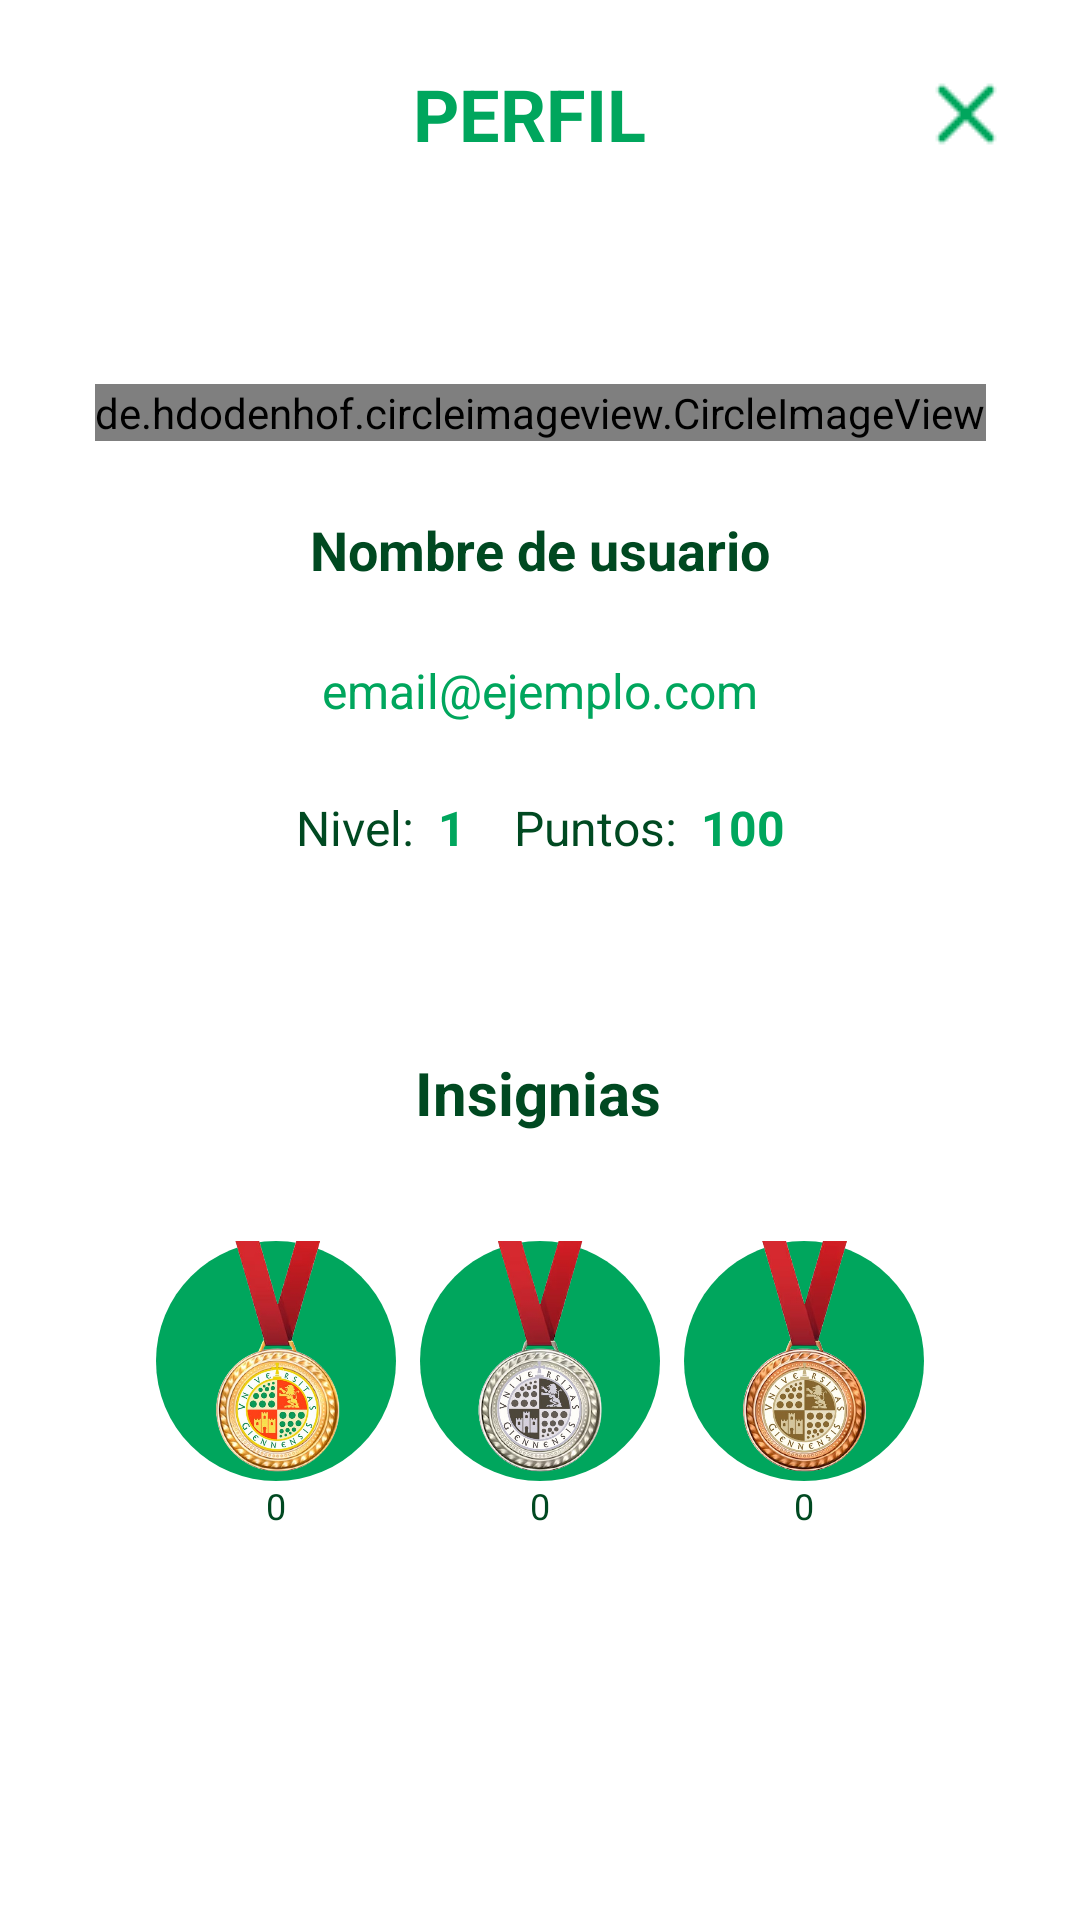

Icon click points for this 1080×1920 phone screenshot, format (x=x, y=y):
xgreen: (x=966, y=114)
